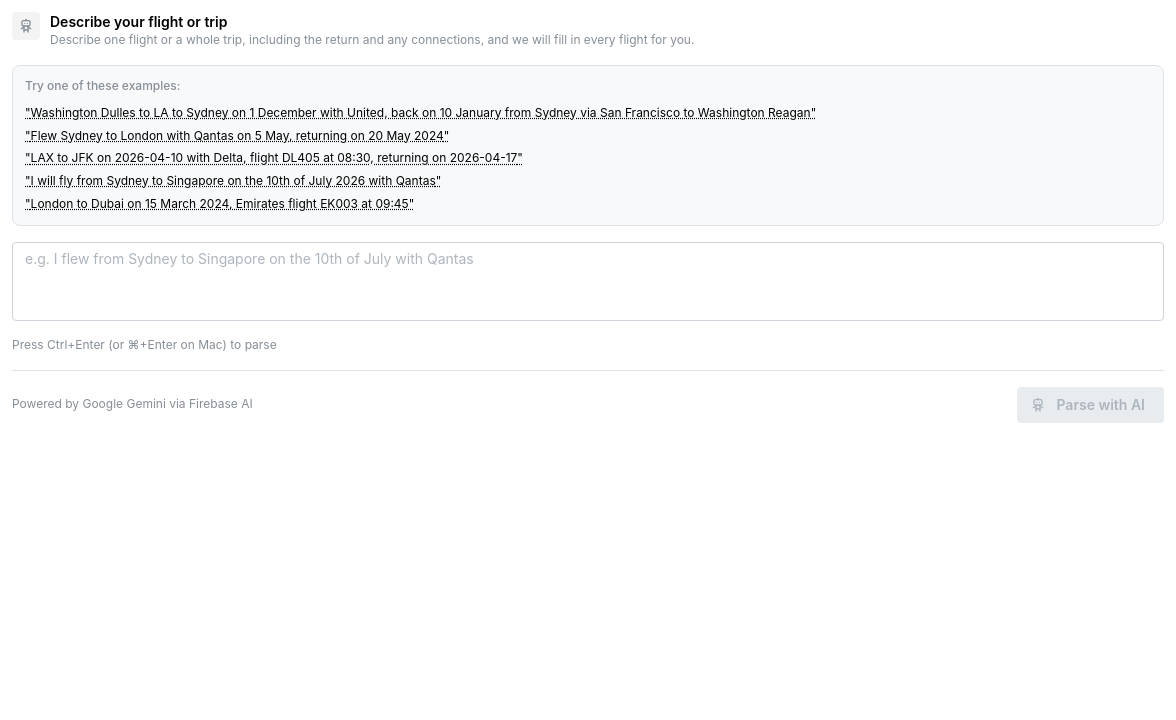
Scenario: FlightChatInput › does NOT show missing-fields warning when all required fields are present
The width and height of the screenshot is (1176, 720).
In the text box: (588, 281) [12,242,1164,321], type "full details"
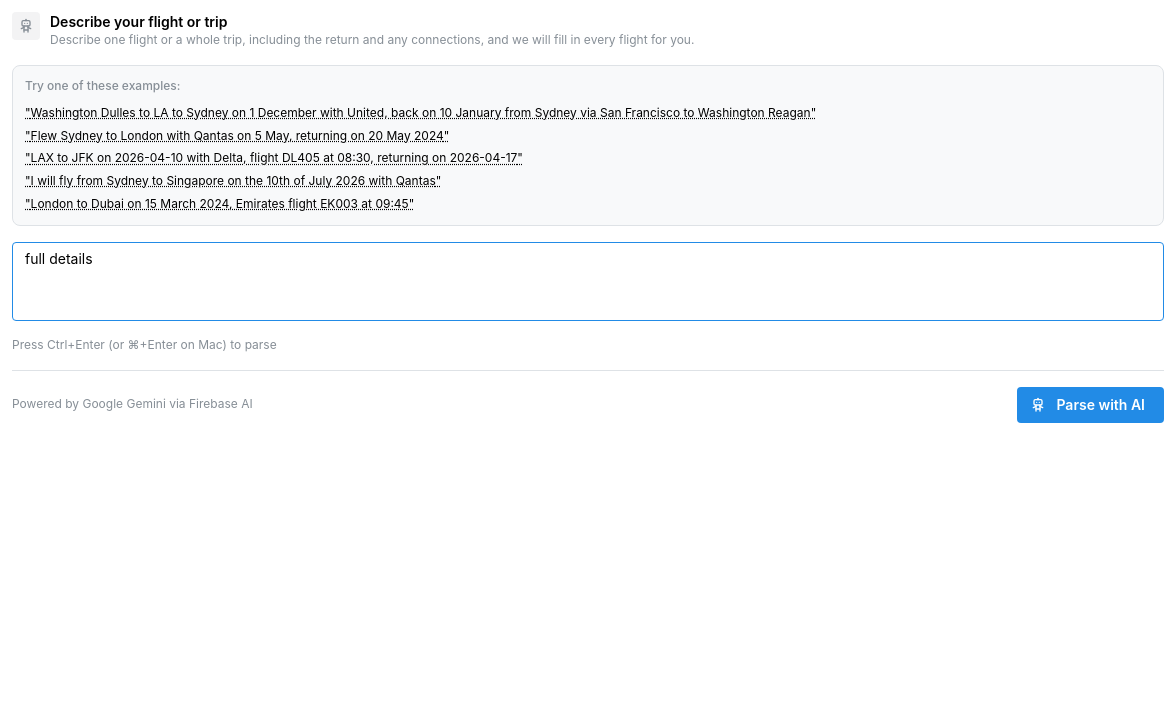
Click the button "Parse with AI": (1091, 405) [1018,387,1164,423]
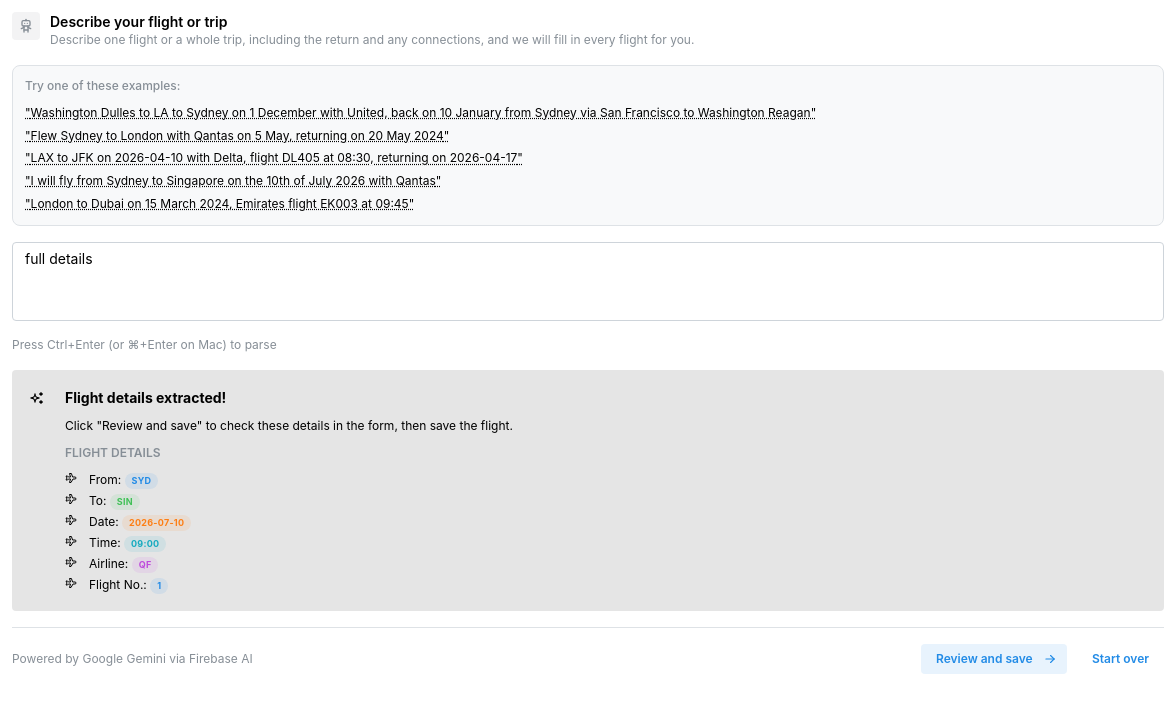
Result: the text "Flight details extracted!" is shown at [65,387,226,408]
